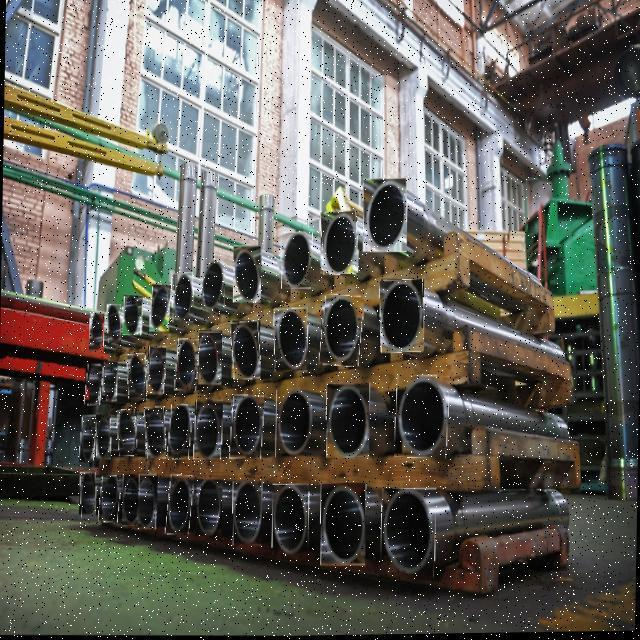pipe: (380, 489, 436, 578), (394, 376, 449, 459), (320, 484, 365, 566), (379, 280, 424, 354), (318, 295, 363, 368), (362, 179, 406, 253), (326, 384, 369, 458), (275, 390, 313, 458), (272, 485, 308, 555), (320, 211, 358, 275), (229, 396, 264, 459), (273, 308, 307, 372), (233, 482, 262, 546), (280, 232, 312, 289), (193, 400, 223, 460), (230, 321, 260, 380), (164, 474, 193, 535), (195, 480, 222, 540), (233, 246, 261, 303), (174, 338, 199, 391), (167, 405, 191, 460), (200, 259, 225, 309), (143, 407, 166, 458), (199, 332, 221, 385), (171, 274, 193, 322), (137, 474, 156, 529), (149, 284, 171, 331), (98, 475, 120, 522), (121, 474, 140, 526), (116, 410, 137, 456), (127, 354, 147, 399), (146, 347, 165, 393), (122, 295, 142, 335), (79, 415, 96, 462), (79, 472, 96, 517), (84, 364, 102, 405), (95, 413, 111, 459), (102, 361, 117, 401), (89, 314, 104, 351), (107, 304, 121, 343)
